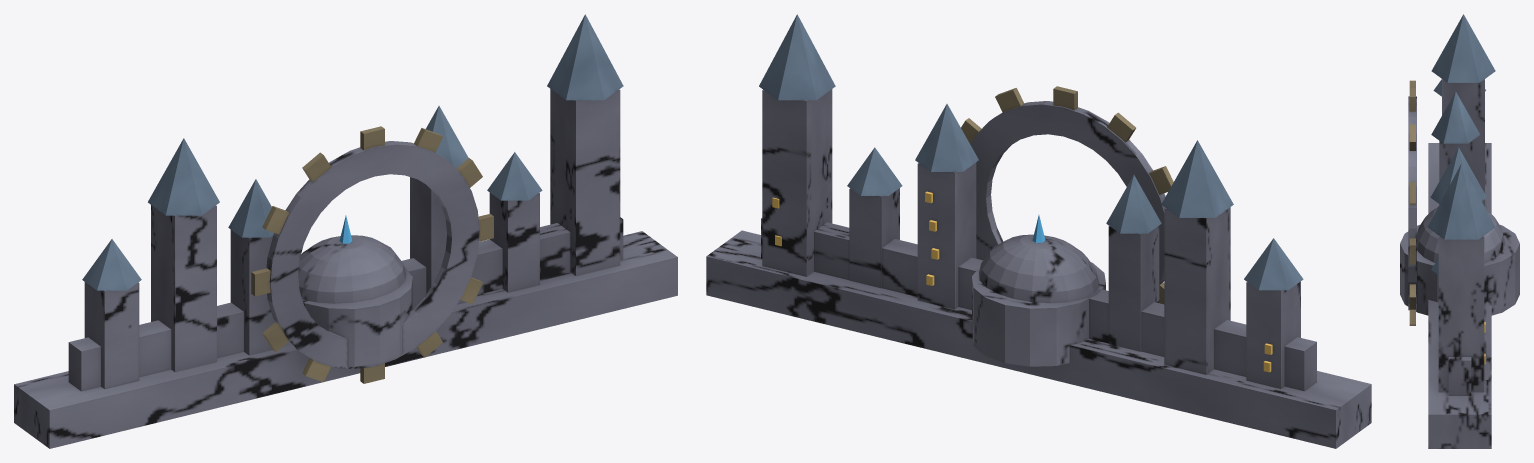
The model's file is BG_Far_Citadel.obj.
3 renders of one model, left to right at view 1: azimuth 30°, elevation 25°; view 2: azimuth 150°, elevation 25°; view 3: azimuth 270°, elevation 25°, orthographic. The views are drawn at different scales.
Visible parts, largest first — view 1: BG_Far_Citadel; view 2: BG_Far_Citadel; view 3: BG_Far_Citadel.
Boxes of the visible parts, x1,y1,x2,y2 form: BG_Far_Citadel: (14, 14, 677, 448); BG_Far_Citadel: (706, 14, 1371, 448); BG_Far_Citadel: (1400, 14, 1519, 448).
Bounding box in the file's own units: 1 × 0.4373 × 0.1863.
Materials: 1 (1 with a texture image).
